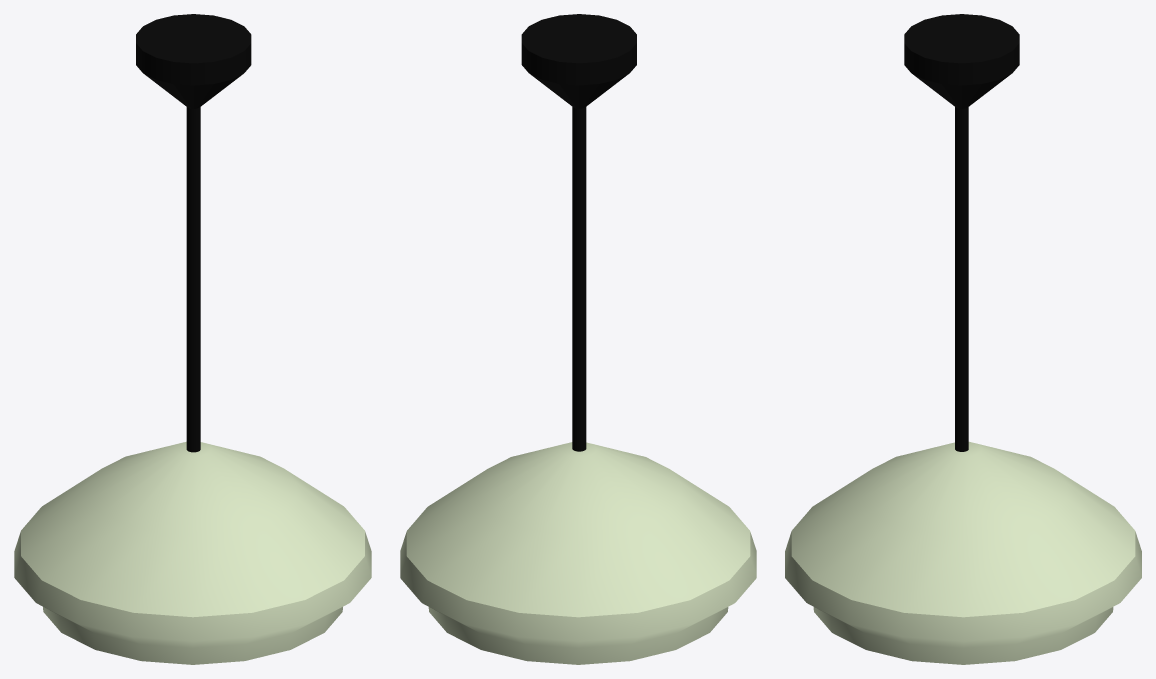
File: Ceiling lamp 2.FBX
3 renders of one model, left to right at view 1: azimuth 30°, elevation 25°; view 2: azimuth 150°, elevation 25°; view 3: azimuth 270°, elevation 25°, orthographic.
Parts seen in each view (by area): view 1: Ceiling lamp 2; view 2: Ceiling lamp 2; view 3: Ceiling lamp 2.
Boxes of the visible parts, x1,y1,x2,y2 form: Ceiling lamp 2: [14, 14, 371, 664]; Ceiling lamp 2: [400, 14, 756, 664]; Ceiling lamp 2: [785, 14, 1141, 664].
Bounding box in the file's own units: 37.46 × 64.1 × 36.89.
Materials: 3 (1 with a texture image).
